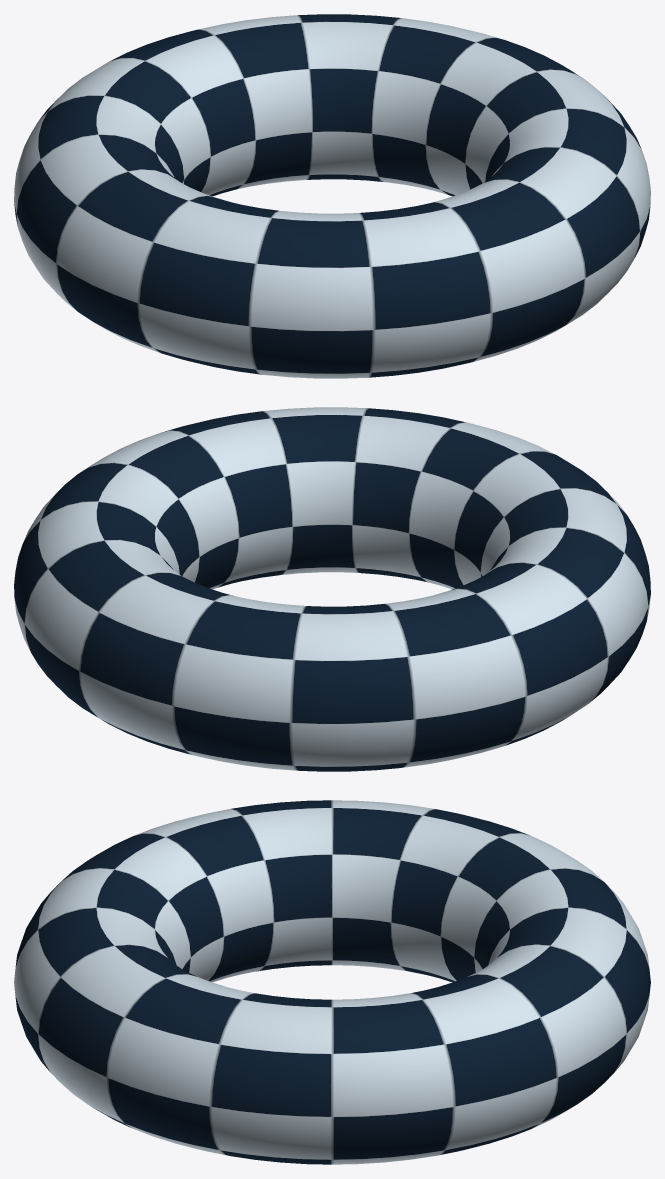
The model's file is toroide.fbx.
3 views of the same model, one above another, from view 1: azimuth 30°, elevation 25°; view 2: azimuth 150°, elevation 25°; view 3: azimuth 270°, elevation 25° (orthographic).
Parts seen in each view (by area): view 1: P8_Toroide; view 2: P8_Toroide; view 3: P8_Toroide.
Boxes of the visible parts, x1=… form: P8_Toroide: x1=14, y1=14, x2=650, y2=378; P8_Toroide: x1=14, y1=407, x2=650, y2=771; P8_Toroide: x1=14, y1=800, x2=650, y2=1164.
Size of the model in its own units: 270 by 70 by 270.
1 material, 1 textured.
